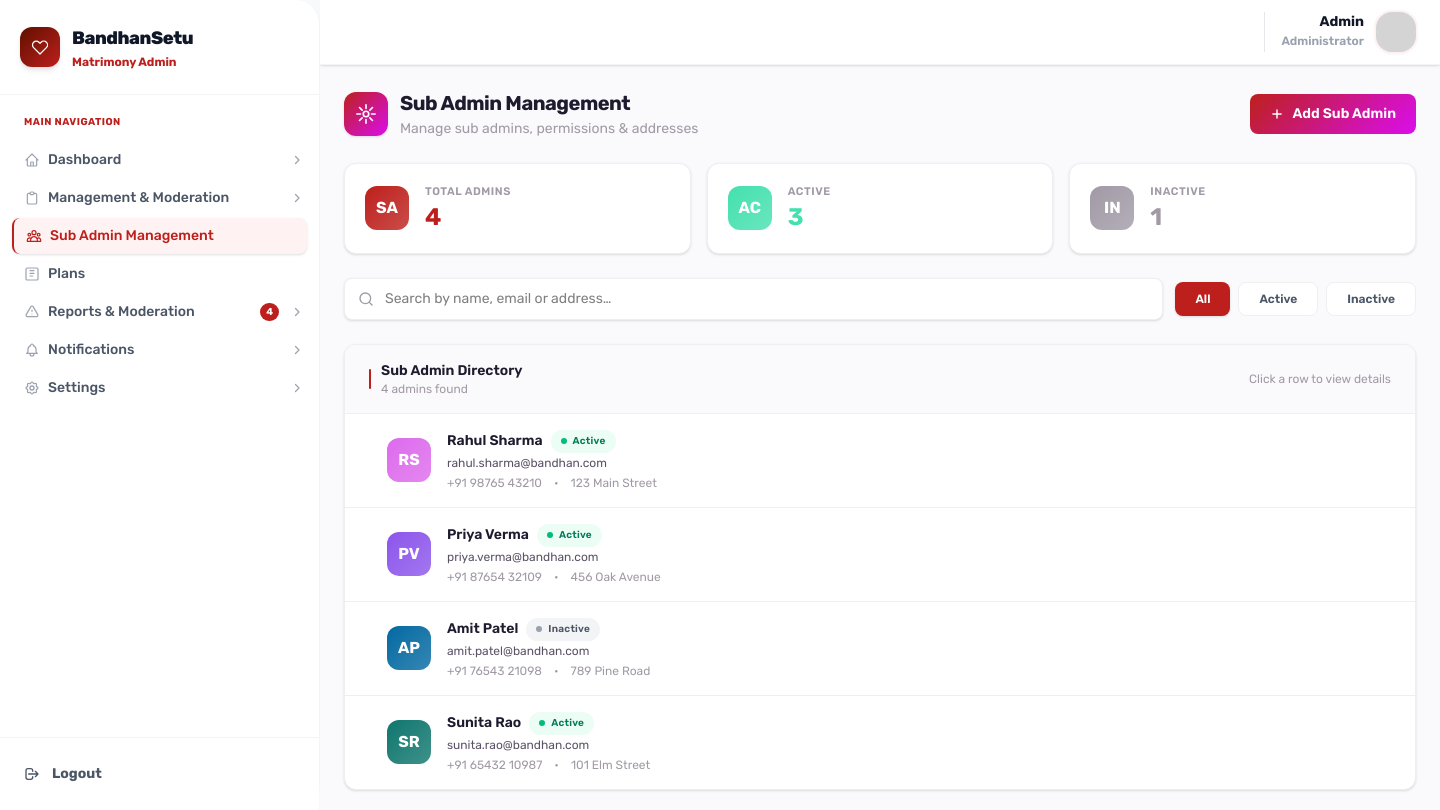
Scenario: SubAdmin Management Integration › opens add sub-admin modal on button click
Click the button "Add Sub Admin": (1333,114) top-left (1250, 94), bottom-right (1416, 134)
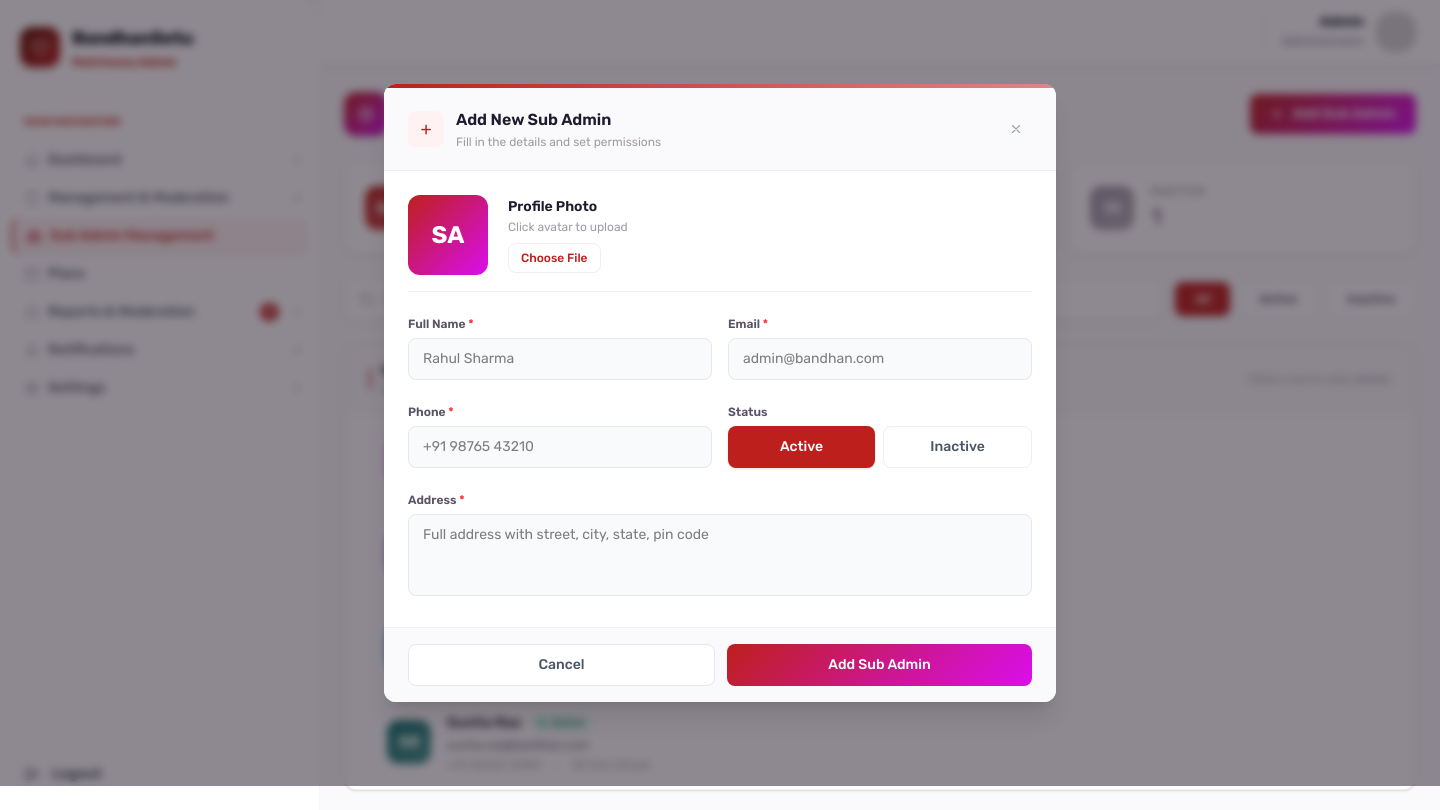
expect the text "Add New Sub Admin" is shown: met, box top-left (456, 110), bottom-right (611, 129)
